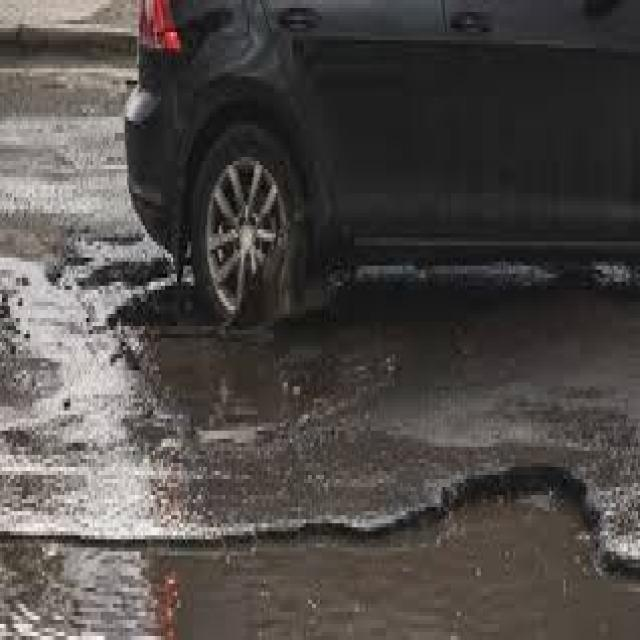Pothole: (0, 463, 640, 640)
